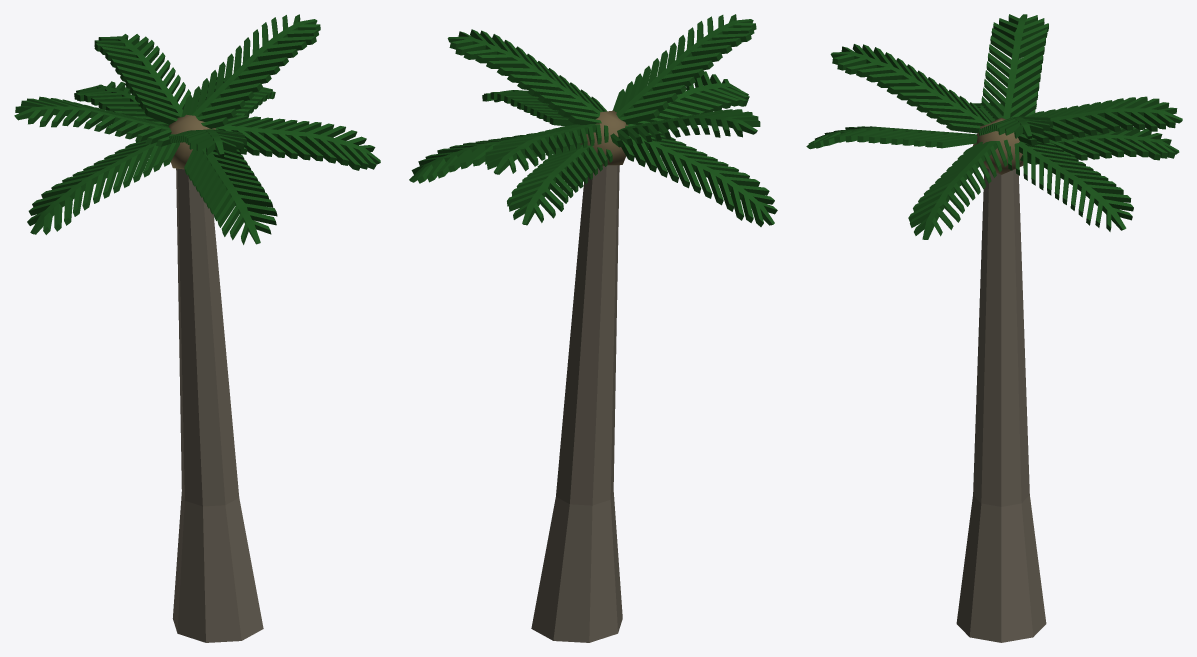
File: PalmTree.fbx
3 renders of one model, left to right at view 1: azimuth 30°, elevation 25°; view 2: azimuth 150°, elevation 25°; view 3: azimuth 270°, elevation 25°, orthographic. The views are drawn at different scales.
Parts seen in each view (by area): view 1: pCube11; view 2: pCube11; view 3: pCube11.
Part boxes in pixels (left/top/right/bottom): pCube11: left=14, top=14, right=380, bottom=642; pCube11: left=409, top=14, right=777, bottom=642; pCube11: left=806, top=14, right=1182, bottom=642.
Size of the model in its own units: 39.65 by 68.22 by 42.86.
